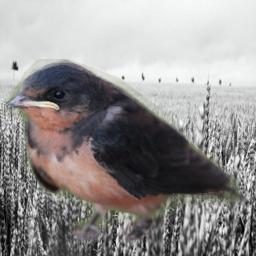Swallow: (4, 59, 246, 244)
